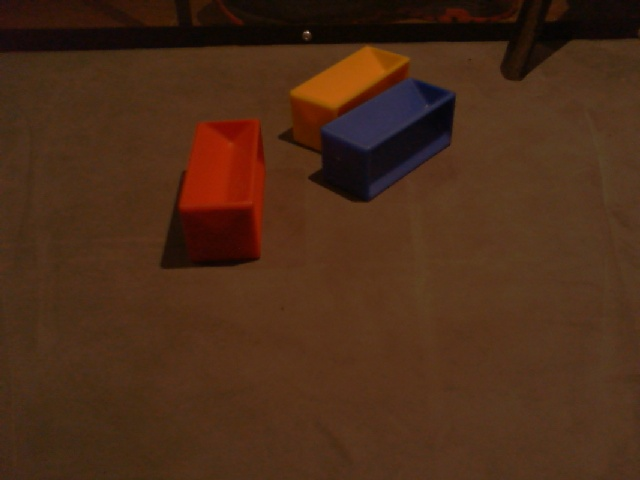BlueSample: (318, 77, 458, 204)
RedSample: (174, 118, 269, 265)
YellowSample: (286, 42, 411, 157)
